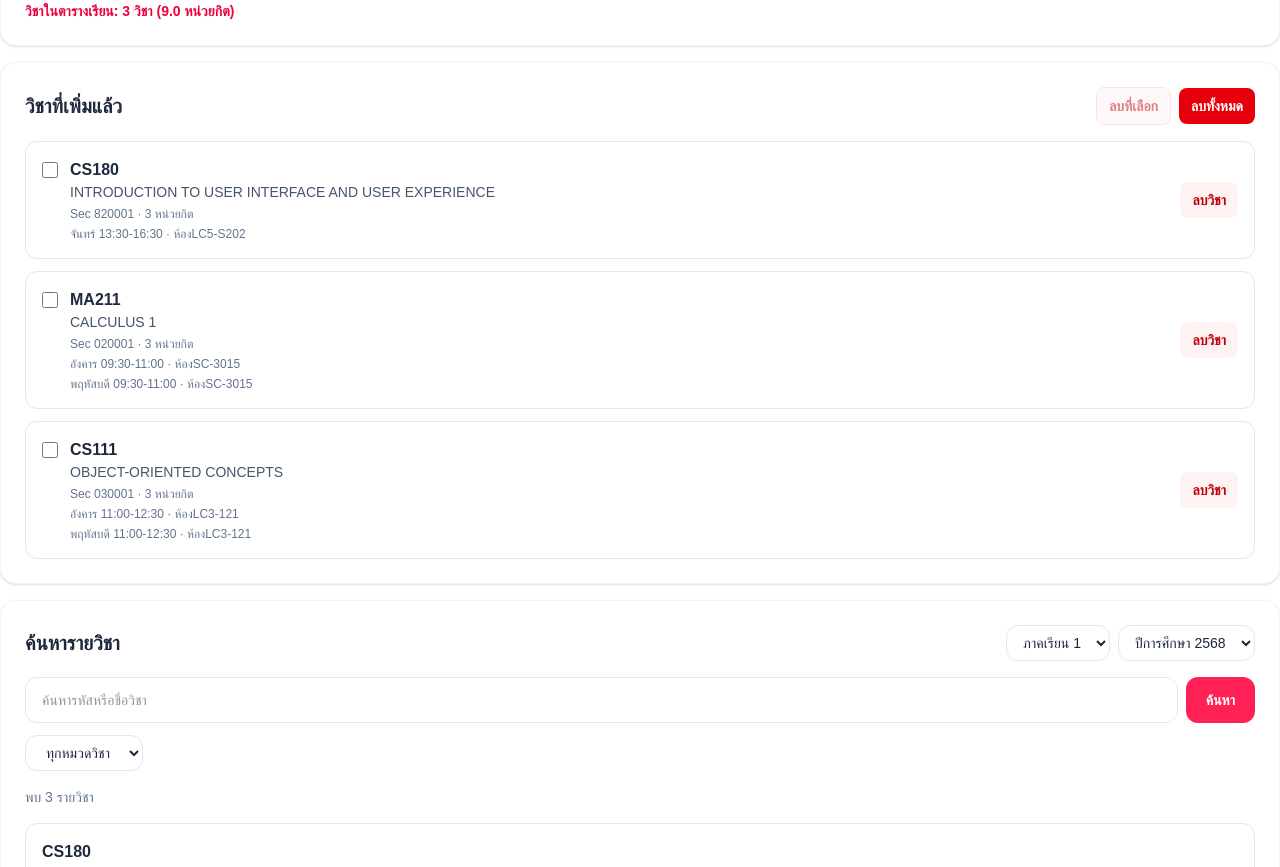
Scenario: US2-T07 ลบวิชาจากตารางเรียนจำลอง (UI + Unit Test UI) › [TC2] เลือก checkbox มากกว่า 1 วิชา (CS111 และ MA211) แล้วกดลบที่เลือก ลบพร้อมกันโดยไม่กระทบวิชาอื่น
The image size is (1280, 867).
(page scrolled)
Click the checkbox named "เลือกวิชา CS111" at (50, 450), box [42,442,58,458]
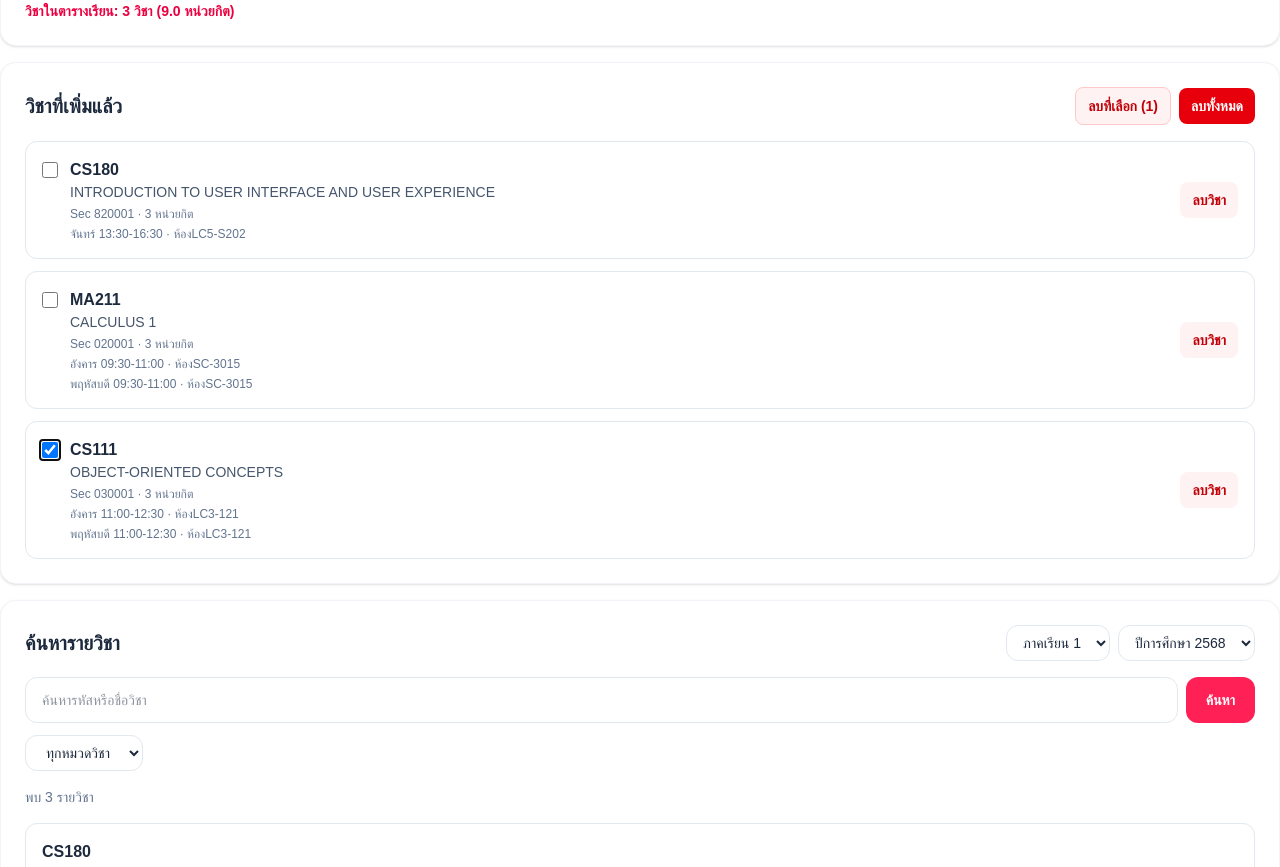
Click the checkbox named "เลือกวิชา MA211" at (50, 300), box [42,292,58,308]
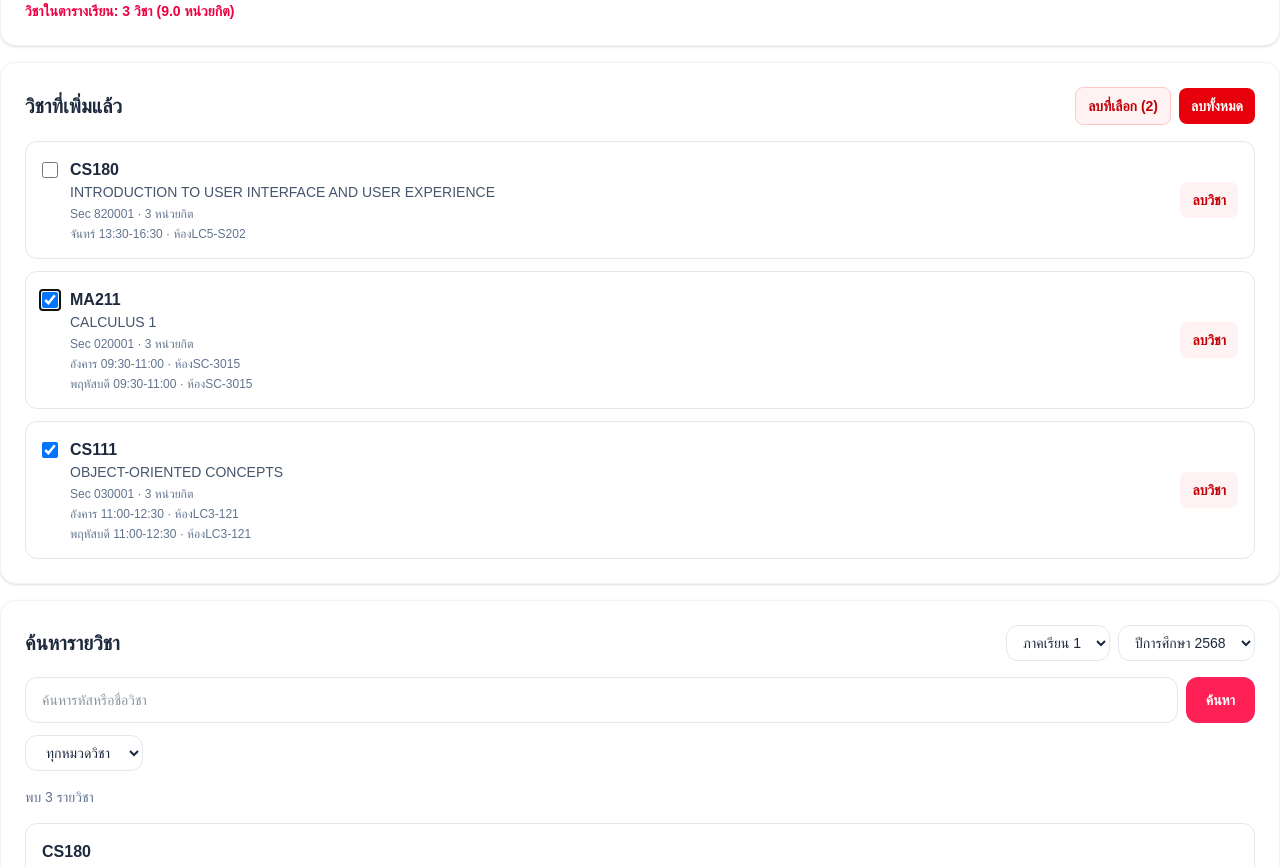
Click the button "ลบที่เลือก (2)" at (1123, 106), box [1075,87,1171,125]
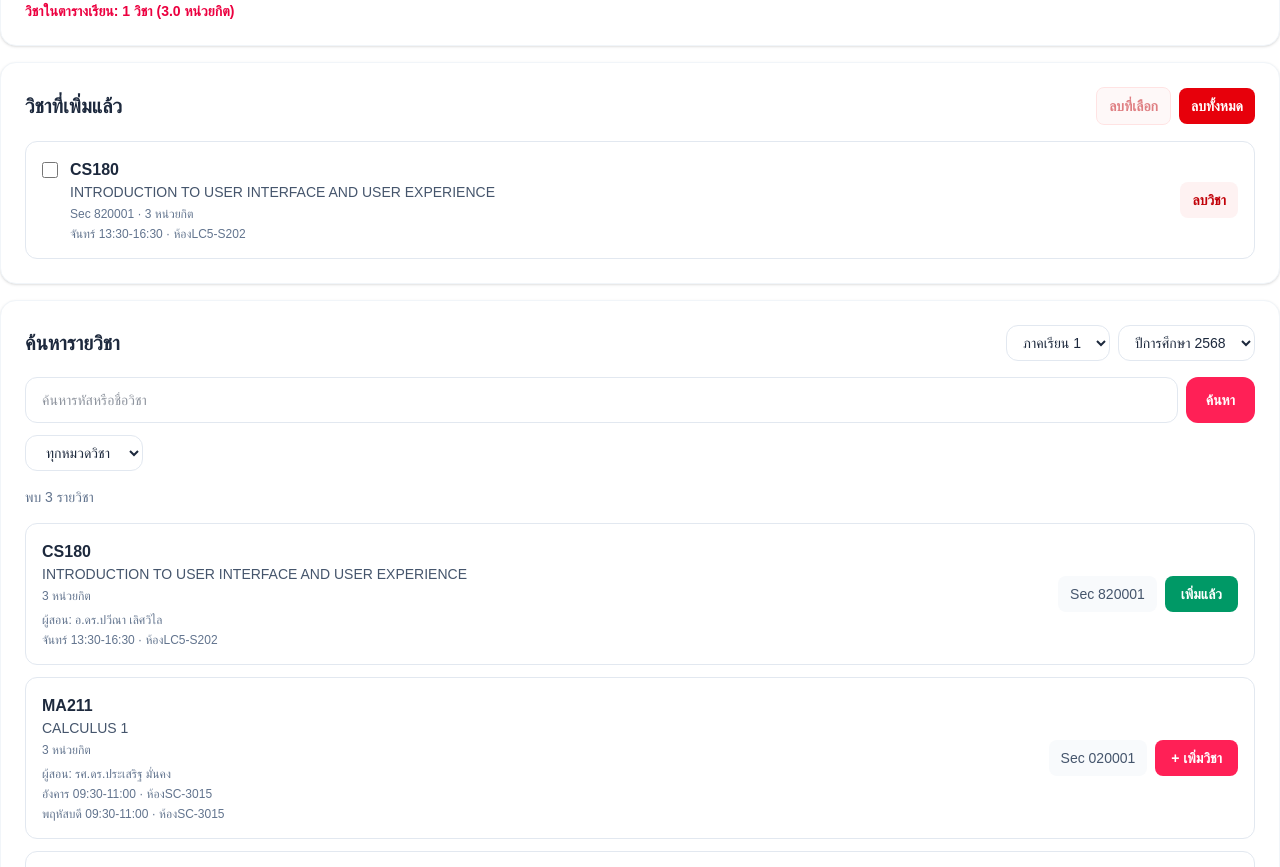
Check: the button "ลบที่เลือก" is disabled, box [1096,87,1171,125]
